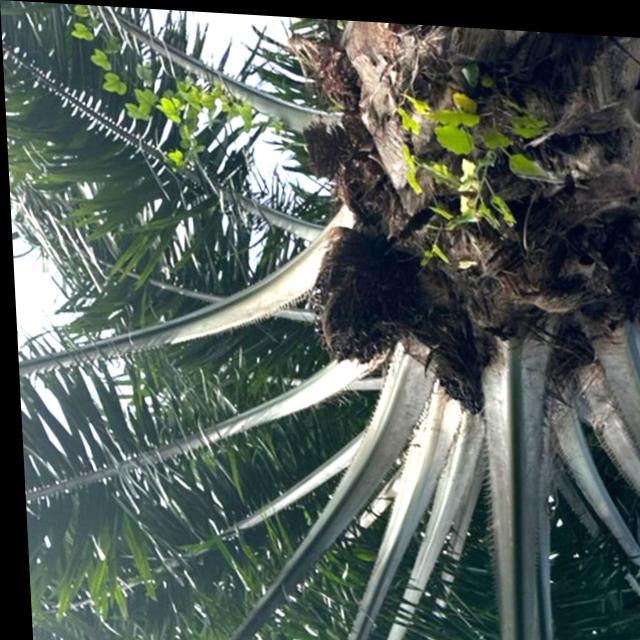ripe: (302, 219, 439, 377)
